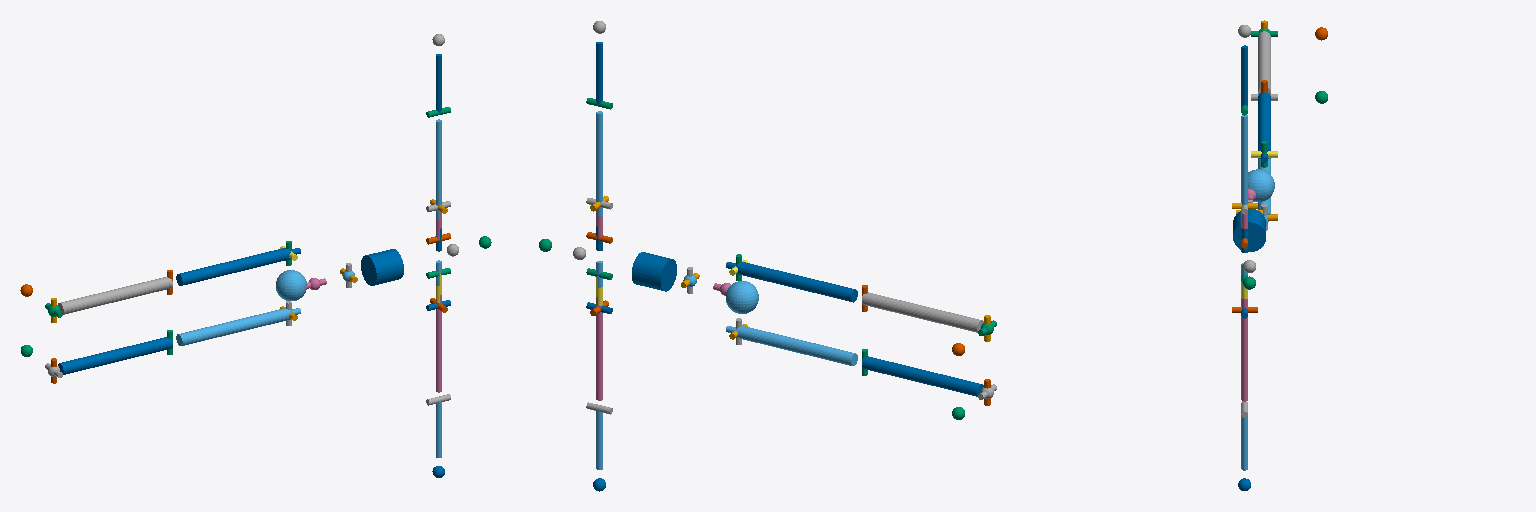
--- Facts derived from the render (not from the file) ---
3 views of the same robot in one strip: view 1: azimuth 30°, elevation 25°; view 2: azimuth 150°, elevation 25°; view 3: azimuth 270°, elevation 25° (orthographic).
Model bvh_human_3dof_tpose with 70 links and 69 joints (27 revolute, 41 fixed, 1 floating), rooted at world, posed every joint at zero.
Visible links, largest first — view 1: RightUpLeg, LeftUpLeg, RightLeg, LeftLeg, Spine2, Hips, LeftArm; view 2: LeftUpLeg, RightUpLeg, LeftLeg, RightLeg, Spine2, Hips, LeftArm, RightArm; view 3: Spine2, LeftUpLeg, LeftLeg, Hips, RightArm, LeftArm.
Link boxes in pixels (x1,y1,x2,y2): RightUpLeg: (176, 308, 300, 345); LeftUpLeg: (176, 248, 300, 285); RightLeg: (58, 337, 172, 374); LeftLeg: (58, 277, 172, 314); Spine2: (361, 249, 403, 285); Hips: (276, 270, 306, 300); LeftArm: (436, 119, 441, 218); LeftUpLeg: (726, 262, 857, 302); RightUpLeg: (726, 326, 857, 365); LeftLeg: (862, 292, 983, 332); RightLeg: (862, 356, 983, 396); Spine2: (632, 252, 676, 291); Hips: (726, 281, 758, 313); LeftArm: (596, 111, 602, 216); RightArm: (596, 297, 602, 400); Spine2: (1233, 209, 1265, 251); LeftUpLeg: (1258, 92, 1270, 162); LeftLeg: (1258, 31, 1270, 95); Hips: (1248, 169, 1274, 201); RightArm: (1241, 298, 1247, 401); LeftArm: (1241, 115, 1247, 204).
Bounding box of the posed robot: 1.59 × 0.2924 × 1.55 m (x, y, z).
Geometry: primitives only (box / cylinder / sphere), no mesh files.

The robot description file, URDF, robot "bvh_human_3dof_tpose":
<?xml version='1.0' encoding='utf-8'?>
<robot name="bvh_human_3dof_tpose">

  <mujoco>
    <compiler meshdir="meshes" fusestatic="false" discardvisual="false" strippath="false" balanceinertia="true" />
  </mujoco>

  
  <link name="world" />
  <joint name="floating_base_joint" type="floating">
    <parent link="world" />
    <child link="Hips" />
  </joint>

  <link name="Hips">
    <inertial>
      <origin xyz="0 0 0" rpy="0 0 0" />
      <mass value="1.0" />
      <inertia ixx="0.01" ixy="0.0" ixz="0.0" iyy="0.01" iyz="0.0" izz="0.01" />
    </inertial>
    <visual>
      <geometry>
        <sphere radius="0.05" />
      </geometry>
    </visual>
  </link>

  
  <link name="LeftUpLeg_rz">
    <inertial>
      <origin xyz="0 0 0" rpy="0 0 0" />
      <mass value="1.0" />
      <inertia ixx="0.01" ixy="0.0" ixz="0.0" iyy="0.01" iyz="0.0" izz="0.01" />
    </inertial>
  <visual><origin xyz="0 0 0" rpy="0 0 0" /><geometry><cylinder radius="0.0100" length="0.0800" /></geometry></visual></link>

  <link name="LeftUpLeg_ry">
    <inertial>
      <origin xyz="0 0 0" rpy="0 0 0" />
      <mass value="1.0" />
      <inertia ixx="0.01" ixy="0.0" ixz="0.0" iyy="0.01" iyz="0.0" izz="0.01" />
    </inertial>
  <visual><origin xyz="0 0 0" rpy="-1.5707963 0 0" /><geometry><cylinder radius="0.0100" length="0.0800" /></geometry></visual></link>

  <link name="LeftUpLeg">
    <inertial>
      <origin xyz="0 0 0" rpy="0 0 0" />
      <mass value="1.0" />
      <inertia ixx="0.01" ixy="0.0" ixz="0.0" iyy="0.01" iyz="0.0" izz="0.01" />
    </inertial>
    <visual>
      <origin xyz="0.2 -0.0 -0.0" rpy="0 1.57 0" />
      <geometry>
        <cylinder radius="0.02" length="0.4" />
      </geometry>
    </visual>
  <visual><origin xyz="0 0 0" rpy="0 1.5707963 0" /><geometry><cylinder radius="0.0100" length="0.0800" /></geometry></visual></link>

  
  <joint name="Hips_to_LeftUpLeg_rz" type="revolute">
    <parent link="Hips" />
    <child link="LeftUpLeg_rz" />
    <origin xyz="0.00103457 0.01857820 0.10548506" rpy="0 0 -3.1415927" />
    <axis xyz="0 0 1" />
    <limit lower="-3.14159" upper="3.14159" effort="100" velocity="10" />
  </joint>

  <joint name="LeftUpLeg_rz_to_LeftUpLeg_ry" type="revolute">
    <parent link="LeftUpLeg_rz" />
    <child link="LeftUpLeg_ry" />
    <origin xyz="0 0 0" rpy="0 0 0" />
    <axis xyz="0 1 0" />
    <limit lower="-3.14159" upper="3.14159" effort="100" velocity="10" />
  </joint>

  <joint name="LeftUpLeg_ry_to_LeftUpLeg" type="revolute">
    <parent link="LeftUpLeg_ry" />
    <child link="LeftUpLeg" />
    <origin xyz="0 0 0" rpy="3.1415927 0 0" />
    <axis xyz="1 0 0" />
    <limit lower="-3.14159" upper="3.14159" effort="100" velocity="10" />
  </joint>

  <link name="LeftLeg_rz">
    <inertial>
      <origin xyz="0 0 0" rpy="0 0 0" />
      <mass value="1.0" />
      <inertia ixx="0.01" ixy="0.0" ixz="0.0" iyy="0.01" iyz="0.0" izz="0.01" />
    </inertial>
  <visual><origin xyz="0 0 0" rpy="0 0 0" /><geometry><cylinder radius="0.0100" length="0.0800" /></geometry></visual></link>

  <link name="LeftLeg_ry">
    <inertial>
      <origin xyz="0 0 0" rpy="0 0 0" />
      <mass value="1.0" />
      <inertia ixx="0.01" ixy="0.0" ixz="0.0" iyy="0.01" iyz="0.0" izz="0.01" />
    </inertial>
  </link>

  <link name="LeftLeg">
    <inertial>
      <origin xyz="0 0 0" rpy="0 0 0" />
      <mass value="1.0" />
      <inertia ixx="0.01" ixy="0.0" ixz="0.0" iyy="0.01" iyz="0.0" izz="0.01" />
    </inertial>
    <visual>
      <origin xyz="0.2 -0.0 -0.0" rpy="0 1.57 0" />
      <geometry>
        <cylinder radius="0.02" length="0.4" />
      </geometry>
    </visual>
  </link>

  
  <joint name="LeftUpLeg_to_LeftLeg_rz" type="revolute">
    <parent link="LeftUpLeg" />
    <child link="LeftLeg_rz" />
    <origin xyz="0.43500000 -0.00000019 0.00000002" rpy="0 0 0" />
    <axis xyz="0 0 1" />
    <limit lower="-3.14159" upper="3.14159" effort="100" velocity="10" />
  </joint>

  <joint name="LeftLeg_rz_to_LeftLeg_ry" type="fixed">
    <parent link="LeftLeg_rz" />
    <child link="LeftLeg_ry" />
    <origin xyz="0 0 0" rpy="0 0 0" />
    <axis xyz="0 1 0" />
    <limit lower="-3.14159" upper="3.14159" effort="100" velocity="10" />
  </joint>

  <joint name="LeftLeg_ry_to_LeftLeg" type="fixed">
    <parent link="LeftLeg_ry" />
    <child link="LeftLeg" />
    <origin xyz="0 0 0" rpy="0 0 0" />
    <axis xyz="1 0 0" />
    <limit lower="-3.14159" upper="3.14159" effort="100" velocity="10" />
  </joint>

  <link name="LeftFoot_rz">
    <inertial>
      <origin xyz="0 0 0" rpy="0 0 0" />
      <mass value="1.0" />
      <inertia ixx="0.01" ixy="0.0" ixz="0.0" iyy="0.01" iyz="0.0" izz="0.01" />
    </inertial>
  <visual><origin xyz="0 0 0" rpy="0 0 0" /><geometry><cylinder radius="0.0100" length="0.0800" /></geometry></visual></link>

  <link name="LeftFoot_ry">
    <inertial>
      <origin xyz="0 0 0" rpy="0 0 0" />
      <mass value="1.0" />
      <inertia ixx="0.01" ixy="0.0" ixz="0.0" iyy="0.01" iyz="0.0" izz="0.01" />
    </inertial>
  </link>

  <link name="LeftFoot">
    <inertial>
      <origin xyz="0 0 0" rpy="0 0 0" />
      <mass value="1.0" />
      <inertia ixx="0.01" ixy="0.0" ixz="0.0" iyy="0.01" iyz="0.0" izz="0.01" />
    </inertial>
    <visual>
      <geometry>
        <sphere radius="0.02" />
      </geometry>
    </visual>
  <visual><origin xyz="0 0 0" rpy="0 1.5707963 0" /><geometry><cylinder radius="0.0100" length="0.0800" /></geometry></visual></link>

  
  <joint name="LeftLeg_to_LeftFoot_rz" type="revolute">
    <parent link="LeftLeg" />
    <child link="LeftFoot_rz" />
    <origin xyz="0.42372200 -0.00000004 0.00000003" rpy="0 0 1.5707963" />
    <axis xyz="0 0 1" />
    <limit lower="-3.14159" upper="3.14159" effort="100" velocity="10" />
  </joint>

  <joint name="LeftFoot_rz_to_LeftFoot_ry" type="fixed">
    <parent link="LeftFoot_rz" />
    <child link="LeftFoot_ry" />
    <origin xyz="0 0 0" rpy="0 0 0" />
    <axis xyz="0 1 0" />
    <limit lower="-3.14159" upper="3.14159" effort="100" velocity="10" />
  </joint>

  <joint name="LeftFoot_ry_to_LeftFoot" type="revolute">
    <parent link="LeftFoot_ry" />
    <child link="LeftFoot" />
    <origin xyz="0 0 0" rpy="0 0 0" />
    <axis xyz="1 0 0" />
    <limit lower="-3.14159" upper="3.14159" effort="100" velocity="10" />
  </joint>

  <link name="LeftToe_rz">
    <inertial>
      <origin xyz="0 0 0" rpy="0 0 0" />
      <mass value="1.0" />
      <inertia ixx="0.01" ixy="0.0" ixz="0.0" iyy="0.01" iyz="0.0" izz="0.01" />
    </inertial>
  </link>

  <link name="LeftToe_ry">
    <inertial>
      <origin xyz="0 0 0" rpy="0 0 0" />
      <mass value="1.0" />
      <inertia ixx="0.01" ixy="0.0" ixz="0.0" iyy="0.01" iyz="0.0" izz="0.01" />
    </inertial>
  </link>

  <link name="LeftToe">
    <inertial>
      <origin xyz="0 0 0" rpy="0 0 0" />
      <mass value="1.0" />
      <inertia ixx="0.01" ixy="0.0" ixz="0.0" iyy="0.01" iyz="0.0" izz="0.01" />
    </inertial>
    <visual>
      <geometry>
        <sphere radius="0.02" />
      </geometry>
    </visual>
  </link>

  
  <joint name="LeftFoot_to_LeftToe_rz" type="fixed">
    <parent link="LeftFoot" />
    <child link="LeftToe_rz" />
    <origin xyz="0.17300009 0.00000002 0.00000006" rpy="0 0 0" />
    <axis xyz="0 0 1" />
    <limit lower="-3.14159" upper="3.14159" effort="100" velocity="10" />
  </joint>

  <joint name="LeftToe_rz_to_LeftToe_ry" type="fixed">
    <parent link="LeftToe_rz" />
    <child link="LeftToe_ry" />
    <origin xyz="0 0 0" rpy="0 0 0" />
    <axis xyz="0 1 0" />
    <limit lower="-3.14159" upper="3.14159" effort="100" velocity="10" />
  </joint>

  <joint name="LeftToe_ry_to_LeftToe" type="fixed">
    <parent link="LeftToe_ry" />
    <child link="LeftToe" />
    <origin xyz="0 0 0" rpy="0 0 0" />
    <axis xyz="1 0 0" />
    <limit lower="-3.14159" upper="3.14159" effort="100" velocity="10" />
  </joint>

  <link name="LeftToe_End">
    <inertial>
      <origin xyz="0 0 0" rpy="0 0 0" />
      <mass value="1.0" />
      <inertia ixx="0.01" ixy="0.0" ixz="0.0" iyy="0.01" iyz="0.0" izz="0.01" />
    </inertial>
    <visual>
      <geometry>
        <sphere radius="0.02" />
      </geometry>
    </visual>
  </link>

  <joint name="LeftToe_to_LeftToe_End" type="fixed">
    <parent link="LeftToe" />
    <child link="LeftToe_End" />
    <origin xyz="0 0 0" rpy="0 0 0" />
  </joint>

  
  <link name="RightUpLeg_rz">
    <inertial>
      <origin xyz="0 0 0" rpy="0 0 0" />
      <mass value="1.0" />
      <inertia ixx="0.01" ixy="0.0" ixz="0.0" iyy="0.01" iyz="0.0" izz="0.01" />
    </inertial>
  <visual><origin xyz="0 0 0" rpy="0 0 0" /><geometry><cylinder radius="0.0100" length="0.0800" /></geometry></visual></link>

  <link name="RightUpLeg_ry">
    <inertial>
      <origin xyz="0 0 0" rpy="0 0 0" />
      <mass value="1.0" />
      <inertia ixx="0.01" ixy="0.0" ixz="0.0" iyy="0.01" iyz="0.0" izz="0.01" />
    </inertial>
  <visual><origin xyz="0 0 0" rpy="-1.5707963 0 0" /><geometry><cylinder radius="0.0100" length="0.0800" /></geometry></visual></link>

  <link name="RightUpLeg">
    <inertial>
      <origin xyz="0 0 0" rpy="0 0 0" />
      <mass value="1.0" />
      <inertia ixx="0.01" ixy="0.0" ixz="0.0" iyy="0.01" iyz="0.0" izz="0.01" />
    </inertial>
    <visual>
      <origin xyz="0.2 -0.0 -0.0" rpy="0 1.57 0" />
      <geometry>
        <cylinder radius="0.02" length="0.4" />
      </geometry>
    </visual>
  <visual><origin xyz="0 0 0" rpy="0 1.5707963 0" /><geometry><cylinder radius="0.0100" length="0.0800" /></geometry></visual></link>

  
  <joint name="Hips_to_RightUpLeg_rz" type="revolute">
    <parent link="Hips" />
    <child link="RightUpLeg_rz" />
    <origin xyz="0.00103459 0.01857818 -0.10548504" rpy="0 0 -3.1415927" />
    <axis xyz="0 0 1" />
    <limit lower="-3.14159" upper="3.14159" effort="100" velocity="10" />
  </joint>

  <joint name="RightUpLeg_rz_to_RightUpLeg_ry" type="revolute">
    <parent link="RightUpLeg_rz" />
    <child link="RightUpLeg_ry" />
    <origin xyz="0 0 0" rpy="0 0 0" />
    <axis xyz="0 1 0" />
    <limit lower="-3.14159" upper="3.14159" effort="100" velocity="10" />
  </joint>

  <joint name="RightUpLeg_ry_to_RightUpLeg" type="revolute">
    <parent link="RightUpLeg_ry" />
    <child link="RightUpLeg" />
    
    <origin xyz="0 0 0" rpy="-3.1415927 0 0" />
    <axis xyz="1 0 0" />
    <limit lower="-3.14159" upper="3.14159" effort="100" velocity="10" />
  </joint>

  <link name="RightLeg_rz">
    <inertial>
      <origin xyz="0 0 0" rpy="0 0 0" />
      <mass value="1.0" />
      <inertia ixx="0.01" ixy="0.0" ixz="0.0" iyy="0.01" iyz="0.0" izz="0.01" />
    </inertial>
  <visual><origin xyz="0 0 0" rpy="0 0 0" /><geometry><cylinder radius="0.0100" length="0.0800" /></geometry></visual></link>

  <link name="RightLeg_ry">
    <inertial>
      <origin xyz="0 0 0" rpy="0 0 0" />
      <mass value="1.0" />
      <inertia ixx="0.01" ixy="0.0" ixz="0.0" iyy="0.01" iyz="0.0" izz="0.01" />
    </inertial>
  </link>

  <link name="RightLeg">
    <inertial>
      <origin xyz="0 0 0" rpy="0 0 0" />
      <mass value="1.0" />
      <inertia ixx="0.01" ixy="0.0" ixz="0.0" iyy="0.01" iyz="0.0" izz="0.01" />
    </inertial>
    <visual>
      <origin xyz="0.2 -0.0 -0.0" rpy="0 1.57 0" />
      <geometry>
        <cylinder radius="0.02" length="0.4" />
      </geometry>
    </visual>
  </link>

  
  <joint name="RightUpLeg_to_RightLeg_rz" type="revolute">
    <parent link="RightUpLeg" />
    <child link="RightLeg_rz" />
    <origin xyz="0.43500042 -0.00000015 0.00000010" rpy="0 0 0" />
    <axis xyz="0 0 1" />
    <limit lower="-3.14159" upper="3.14159" effort="100" velocity="10" />
  </joint>

  <joint name="RightLeg_rz_to_RightLeg_ry" type="fixed">
    <parent link="RightLeg_rz" />
    <child link="RightLeg_ry" />
    <origin xyz="0 0 0" rpy="0 0 0" />
    <axis xyz="0 1 0" />
    <limit lower="-3.14159" upper="3.14159" effort="100" velocity="10" />
  </joint>

  <joint name="RightLeg_ry_to_RightLeg" type="fixed">
    <parent link="RightLeg_ry" />
    <child link="RightLeg" />
    <origin xyz="0 0 0" rpy="0 0 0" />
    <axis xyz="1 0 0" />
    <limit lower="-3.14159" upper="3.14159" effort="100" velocity="10" />
  </joint>

  <link name="RightFoot_rz">
    <inertial>
      <origin xyz="0 0 0" rpy="0 0 0" />
      <mass value="1.0" />
      <inertia ixx="0.01" ixy="0.0" ixz="0.0" iyy="0.01" iyz="0.0" izz="0.01" />
    </inertial>
  <visual><origin xyz="0 0 0" rpy="0 0 0" /><geometry><cylinder radius="0.0100" length="0.0800" /></geometry></visual></link>

  <link name="RightFoot_ry">
    <inertial>
      <origin xyz="0 0 0" rpy="0 0 0" />
      <mass value="1.0" />
      <inertia ixx="0.01" ixy="0.0" ixz="0.0" iyy="0.01" iyz="0.0" izz="0.01" />
    </inertial>
  </link>

  <link name="RightFoot">
    <inertial>
      <origin xyz="0 0 0" rpy="0 0 0" />
      <mass value="1.0" />
      <inertia ixx="0.01" ixy="0.0" ixz="0.0" iyy="0.01" iyz="0.0" izz="0.01" />
    </inertial>
    <visual>
      <geometry>
        <sphere radius="0.02" />
      </geometry>
    </visual>
  <visual><origin xyz="0 0 0" rpy="0 1.5707963 0" /><geometry><cylinder radius="0.0100" length="0.0800" /></geometry></visual></link>

  
  <joint name="RightLeg_to_RightFoot_rz" type="revolute">
    <parent link="RightLeg" />
    <child link="RightFoot_rz" />
    <origin xyz="0.42372261 -0.00000008 0.00000010" rpy="0 0 1.5707963" />
    <axis xyz="0 0 1" />
    <limit lower="-3.14159" upper="3.14159" effort="100" velocity="10" />
  </joint>

  <joint name="RightFoot_rz_to_RightFoot_ry" type="fixed">
    <parent link="RightFoot_rz" />
    <child link="RightFoot_ry" />
    <origin xyz="0 0 0" rpy="0 0 0" />
    <axis xyz="0 1 0" />
    <limit lower="-3.14159" upper="3.14159" effort="100" velocity="10" />
  </joint>

  <joint name="RightFoot_ry_to_RightFoot" type="revolute">
    <parent link="RightFoot_ry" />
    <child link="RightFoot" />
    <origin xyz="0 0 0" rpy="0 0 0" />
    <axis xyz="1 0 0" />
    <limit lower="-3.14159" upper="3.14159" effort="100" velocity="10" />
  </joint>

  <link name="RightToe_rz">
    <inertial>
      <origin xyz="0 0 0" rpy="0 0 0" />
      <mass value="1.0" />
      <inertia ixx="0.01" ixy="0.0" ixz="0.0" iyy="0.01" iyz="0.0" izz="0.01" />
    </inertial>
  </link>

  <link name="RightToe_ry">
    <inertial>
      <origin xyz="0 0 0" rpy="0 0 0" />
      <mass value="1.0" />
      <inertia ixx="0.01" ixy="0.0" ixz="0.0" iyy="0.01" iyz="0.0" izz="0.01" />
    </inertial>
  </link>

  <link name="RightToe">
    <inertial>
      <origin xyz="0 0 0" rpy="0 0 0" />
      <mass value="1.0" />
      <inertia ixx="0.01" ixy="0.0" ixz="0.0" iyy="0.01" iyz="0.0" izz="0.01" />
    </inertial>
    <visual>
      <geometry>
        <sphere radius="0.02" />
      </geometry>
    </visual>
  </link>

  
  <joint name="RightFoot_to_RightToe_rz" type="fixed">
    <parent link="RightFoot" />
    <child link="RightToe_rz" />
    <origin xyz="0.17299995 -0.00000005 0.00000000" rpy="0 0 0" />
    <axis xyz="0 0 1" />
    <limit lower="-3.14159" upper="3.14159" effort="100" velocity="10" />
  </joint>

  <joint name="RightToe_rz_to_RightToe_ry" type="fixed">
    <parent link="RightToe_rz" />
    <child link="RightToe_ry" />
    <origin xyz="0 0 0" rpy="0 0 0" />
    <axis xyz="0 1 0" />
    <limit lower="-3.14159" upper="3.14159" effort="100" velocity="10" />
  </joint>

  <joint name="RightToe_ry_to_RightToe" type="fixed">
    <parent link="RightToe_ry" />
    <child link="RightToe" />
    <origin xyz="0 0 0" rpy="0 0 0" />
    <axis xyz="1 0 0" />
    <limit lower="-3.14159" upper="3.14159" effort="100" velocity="10" />
  </joint>

  <link name="RightToe_End">
    <inertial>
      <origin xyz="0 0 0" rpy="0 0 0" />
      <mass value="1.0" />
      <inertia ixx="0.01" ixy="0.0" ixz="0.0" iyy="0.01" iyz="0.0" izz="0.01" />
    </inertial>
    <visual>
      <geometry>
        <sphere radius="0.02" />
      </geometry>
    </visual>
  </link>

  <joint name="RightToe_to_RightToe_End" type="fixed">
    <parent link="RightToe" />
    <child link="RightToe_End" />
    <origin xyz="0 0 0" rpy="0 0 0" />
  </joint>

  
  <link name="Spine_rz">
    <inertial>
      <origin xyz="0 0 0" rpy="0 0 0" />
      <mass value="1.0" />
      <inertia ixx="0.01" ixy="0.0" ixz="0.0" iyy="0.01" iyz="0.0" izz="0.01" />
    </inertial>
  </link>

  <link name="Spine_ry">
    <inertial>
      <origin xyz="0 0 0" rpy="0 0 0" />
      <mass value="1.0" />
      <inertia ixx="0.01" ixy="0.0" ixz="0.0" iyy="0.01" iyz="0.0" izz="0.01" />
    </inertial>
  </link>

  <link name="Spine">
    <inertial>
      <origin xyz="0 0 0" rpy="0 0 0" />
      <mass value="1.0" />
      <inertia ixx="0.01" ixy="0.0" ixz="0.0" iyy="0.01" iyz="0.0" izz="0.01" />
    </inertial>
    <visual>
      <geometry>
        <sphere radius="0.02" />
      </geometry>
    </visual>
  <visual><origin xyz="0 0 0" rpy="0 1.5707963 0" /><geometry><cylinder radius="0.0100" length="0.0800" /></geometry></visual></link>

  
  <joint name="Hips_to_Spine_rz" type="fixed">
    <parent link="Hips" />
    <child link="Spine_rz" />
    <origin xyz="0.06901967 -0.02603743 0.00000001" rpy="0 0 0" />
    <axis xyz="0 0 1" />
    <limit lower="-3.14159" upper="3.14159" effort="100" velocity="10" />
  </joint>

  <joint name="Spine_rz_to_Spine_ry" type="fixed">
    <parent link="Spine_rz" />
    <child link="Spine_ry" />
    <origin xyz="0 0 0" rpy="0 0 0" />
    <axis xyz="0 1 0" />
    <limit lower="-3.14159" upper="3.14159" effort="100" velocity="10" />
  </joint>

  <joint name="Spine_ry_to_Spine" type="revolute">
    <parent link="Spine_ry" />
    <child link="Spine" />
    <origin xyz="0 0 0" rpy="0 0 0" />
    <axis xyz="1 0 0" />
    <limit lower="-3.14159" upper="3.14159" effort="100" velocity="10" />
  </joint>

  <link name="Spine1_rz">
    <inertial>
      <origin xyz="0 0 0" rpy="0 0 0" />
      <mass value="1.0" />
      <inertia ixx="0.01" ixy="0.0" ixz="0.0" iyy="0.01" iyz="0.0" izz="0.01" />
    </inertial>
  <visual><origin xyz="0 0 0" rpy="0 0 0" /><geometry><cylinder radius="0.0100" length="0.0800" /></geometry></visual></link>

  <link name="Spine1_ry">
    <inertial>
      <origin xyz="0 0 0" rpy="0 0 0" />
      <mass value="1.0" />
      <inertia ixx="0.01" ixy="0.0" ixz="0.0" iyy="0.01" iyz="0.0" izz="0.01" />
    </inertial>
  <visual><origin xyz="0 0 0" rpy="-1.5707963 0 0" /><geometry><cylinder radius="0.0100" length="0.0800" /></geometry></visual></link>

  <link name="Spine1">
    <inertial>
      <origin xyz="0 0 0" rpy="0 0 0" />
      <mass value="1.0" />
      <inertia ixx="0.01" ixy="0.0" ixz="0.0" iyy="0.01" iyz="0.0" izz="0.01" />
    </inertial>
    <visual>
      <geometry>
        <sphere radius="0.02" />
      </geometry>
    </visual>
  </link>

  
  <joint name="Spine_to_Spine1_rz" type="revolute">
    <parent link="Spine" />
    <child link="Spine1_rz" />
    <origin xyz="0.12588100 0.00000016 -0.00000005" rpy="0 0 0" />
    <axis xyz="0 0 1" />
    <limit lower="-3.14159" upper="3.14159" effort="100" velocity="10" />
  </joint>

  <joint name="Spine1_rz_to_Spine1_ry" type="revolute">
    <parent link="Spine1_rz" />
    <child link="Spine1_ry" />
    <origin xyz="0 0 0" rpy="0 0 0" />
    <axis xyz="0 1 0" />
    <limit lower="-3.14159" upper="3.14159" effort="100" velocity="10" />
  </joint>

  <joint name="Spine1_ry_to_Spine1" type="fixed">
    <parent link="Spine1_ry" />
    <child link="Spine1" />
    <origin xyz="0 0 0" rpy="0 0 0" />
    <axis xyz="1 0 0" />
    <limit lower="-3.14159" upper="3.14159" effort="100" velocity="10" />
  </joint>

  <link name="Spine2_rz">
    <inertial>
      <origin xyz="0 0 0" rpy="0 0 0" />
      <mass value="1.0" />
      <inertia ixx="0.01" ixy="0.0" ixz="0.0" iyy="0.01" iyz="0.0" izz="0.01" />
    </inertial>
  </link>

  <link name="Spine2_ry">
    <inertial>
      <origin xyz="0 0 0" rpy="0 0 0" />
      <mass value="1.0" />
      <inertia ixx="0.01" ixy="0.0" ixz="0.0" iyy="0.01" iyz="0.0" izz="0.01" />
    </inertial>
  </link>

  <link name="Spine2">
    <inertial>
      <origin xyz="0 0 0" rpy="0 0 0" />
      <mass value="1.0" />
      <inertia ixx="0.01" ixy="0.0" ixz="0.0" iyy="0.01" iyz="0.0" izz="0.01" />
    </inertial>
    <visual>
      <origin xyz="0.0 -0.0 -0.0" rpy="0 1.57 0" />
      <geometry>
        <cylinder radius="0.05" length="0.1" />
      </geometry>
    </visual>
  </link>

  
  <joint name="Spine1_to_Spine2_rz" type="fixed">
    <parent link="Spine1" />
    <child link="Spine2_rz" />
    <origin xyz="0.12343201 -0.00000011 -0.00000005" rpy="0 0 0" />
    <axis xyz="0 0 1" />
    <limit lower="-3.14159" upper="3.14159" effort="100" velocity="10" />
  </joint>

  <joint name="Spine2_rz_to_Spine2_ry" type="fixed">
    <parent link="Spine2_rz" />
    <child link="Spine2_ry" />
    <origin xyz="0 0 0" rpy="0 0 0" />
    <axis xyz="0 1 0" />
    <limit lower="-3.14159" upper="3.14159" effort="100" velocity="10" />
  </joint>

  <joint name="Spine2_ry_to_Spine2" type="fixed">
    <parent link="Spine2_ry" />
    <child link="Spine2" />
    <origin xyz="0 0 0" rpy="0 0 0" />
    <axis xyz="1 0 0" />
    <limit lower="-3.14159" upper="3.14159" effort="100" velocity="10" />
  </joint>

  <link name="Neck_rz">
    <inertial>
      <origin xyz="0 0 0" rpy="0 0 0" />
      <mass value="1.0" />
      <inertia ixx="0.01" ixy="0.0" ixz="0.0" iyy="0.01" iyz="0.0" izz="0.01" />
    </inertial>
  </link>

  <link name="Neck_ry">
    <inertial>
      <origin xyz="0 0 0" rpy="0 0 0" />
      <mass value="1.0" />
      <inertia ixx="0.01" ixy="0.0" ixz="0.0" iyy="0.01" iyz="0.0" izz="0.01" />
    </inertial>
  </link>

  <link name="Neck">
    <inertial>
      <origin xyz="0 0 0" rpy="0 0 0" />
      <mass value="1.0" />
      <inertia ixx="0.01" ixy="0.0" ixz="0.0" iyy="0.01" iyz="0.0" izz="0.01" />
    </inertial>
    <visual>
      <geometry>
        <sphere radius="0.02" />
      </geometry>
    </visual>
  </link>

  
  <joint name="Spine2_to_Neck_rz" type="fixed">
    <parent link="Spine2" />
    <child link="Neck_rz" />
    <origin xyz="0.25832895 0.00000008 0.00000006" rpy="0 0 0" />
    <axis xyz="0 0 1" />
    <limit lower="-3.14159" upper="3.14159" effort="100" velocity="10" />
  </joint>

  <joint name="Neck_rz_to_Neck_ry" type="fixed">
    <parent link="Neck_rz" />
    <child link="Neck_ry" />
    <origin xyz="0 0 0" rpy="0 0 0" />
    <axis xyz="0 1 0" />
    <limit lower="-3.14159" upper="3.14159" effort="100" velocity="10" />
  </joint>

  <joint name="Neck_ry_to_Neck" type="fixed">
    <parent link="Neck_ry" />
    <child link="Neck" />
    <origin xyz="0 0 0" rpy="0 0 0" />
    <axis xyz="1 0 0" />
    <limit lower="-3.14159" upper="3.14159" effort="100" velocity="10" />
  </joint>

  <link name="Head_rz">
    <inertial>
      <origin xyz="0 0 0" rpy="0 0 0" />
      <mass value="1.0" />
      <inertia ixx="0.01" ixy="0.0" ixz="0.0" iyy="0.01" iyz="0.0" izz="0.01" />
    </inertial>
  </link>

  <link name="Head_ry">
    <inertial>
      <origin xyz="0 0 0" rpy="0 0 0" />
      <mass value="1.0" />
      <inertia ixx="0.01" ixy="0.0" ixz="0.0" iyy="0.01" iyz="0.0" izz="0.01" />
    </inertial>
  </link>

  <link name="Head">
    <inertial>
      <origin xyz="0 0 0" rpy="0 0 0" />
      <mass value="1.0" />
      <inertia ixx="0.01" ixy="0.0" ixz="0.0" iyy="0.01" iyz="0.0" izz="0.01" />
    </inertial>
    <visual>
      <geometry>
        <sphere radius="0.02" />
      </geometry>
    </visual>
  </link>

  
  <joint name="Neck_to_Head_rz" type="fixed">
    <parent link="Neck" />
    <child link="Head_rz" />
    <origin xyz="0.11766613 -0.00000004 -0.00000002" rpy="0 0 0" />
    <axis xyz="0 0 1" />
    <limit lower="-3.14159" upper="3.14159" effort="100" velocity="10" />
  </joint>

  <joint name="Head_rz_to_Head_ry" type="fixed">
    <parent link="Head_rz" />
    <child link="Head_ry" />
    <origin xyz="0 0 0" rpy="0 0 0" />
    <axis xyz="0 1 0" />
    <limit lower="-3.14159" upper="3.14159" effort="100" velocity="10" />
  </joint>

  <joint name="Head_ry_to_Head" type="fixed">
    <parent link="Head_ry" />
    <child link="Head" />
    <origin xyz="0 0 0" rpy="0 0 0" />
    <axis xyz="1 0 0" />
    <limit lower="-3.14159" upper="3.14159" effort="100" velocity="10" />
  </joint>

  <link name="Head_End">
    <inertial>
      <origin xyz="0 0 0" rpy="0 0 0" />
      <mass value="1.0" />
      <inertia ixx="0.01" ixy="0.0" ixz="0.0" iyy="0.01" iyz="0.0" izz="0.01" />
    </inertial>
    <visual>
      <geometry>
        <sphere radius="0.02" />
      </geometry>
    </visual>
  </link>

  <joint name="Head_to_Head_End" type="fixed">
    <parent link="Head" />
    <child link="Head_End" />
    <origin xyz="0 0 0" rpy="0 0 0" />
  </joint>

  
  <link name="LeftShoulder_rz">
    <inertial>
      <origin xyz="0 0 0" rpy="0 0 0" />
      <mass value="1.0" />
      <inertia ixx="0.01" ixy="0.0" ixz="0.0" iyy="0.01" iyz="0.0" izz="0.01" />
    </inertial>
  <visual><origin xyz="0 0 0" rpy="0 0 0" /><geometry><cylinder radius="0.0100" length="0.0800" /></geometry></visual></link>

  <link name="LeftShoulder_ry">
    <inertial>
      <origin xyz="0 0 0" rpy="0 0 0" />
      <mass value="1.0" />
      <inertia ixx="0.01" ixy="0.0" ixz="0.0" iyy="0.01" iyz="0.0" izz="0.01" />
    </inertial>
  <visual><origin xyz="0 0 0" rpy="-1.5707963 0 0" /><geometry><cylinder radius="0.0100" length="0.0800" /></geometry></visual></link>

  <link name="LeftShoulder">
    <inertial>
      <origin xyz="0 0 0" rpy="0 0 0" />
      <mass value="1.0" />
      <inertia ixx="0.01" ixy="0.0" ixz="0.0" iyy="0.01" iyz="0.0" izz="0.01" />
    </inertial>
    <visual>
      <origin xyz="0.05 -0.0 -0.0" rpy="0 1.57 0" />
      <geometry>
        <cylinder radius="0.01" length="0.1" />
      </geometry>
    </visual>
  </link>

  
  <joint name="Spine2_to_LeftShoulder_rz" type="revolute">
    <parent link="Spine2" />
    <child link="LeftShoulder_rz" />
    <origin xyz="0.19745897 -0.01480371 0.06000116" rpy="0 0 -1.5707963" />
    <axis xyz="0 0 1" />
    <limit lower="-3.14159" upper="3.14159" effort="100" velocity="10" />
  </joint>

  <joint name="LeftShoulder_rz_to_LeftShoulder_ry" type="revolute">
    <parent link="LeftShoulder_rz" />
    <child link="LeftShoulder_ry" />
    <origin xyz="0 0 0" rpy="0 -1.5707963 0" />
    <axis xyz="0 1 0" />
    <limit lower="-3.14159" upper="3.14159" effort="100" velocity="10" />
  </joint>

  <joint name="LeftShoulder_ry_to_LeftShoulder" type="fixed">
    <parent link="LeftShoulder_ry" />
    <child link="LeftShoulder" />
    <origin xyz="0 0 0" rpy="-1.5707963 0 0" />
    <axis xyz="1 0 0" />
    <limit lower="-3.14159" upper="3.14159" effort="100" velocity="10" />
  </joint>

  <link name="LeftArm_rz">
    <inertial>
      <origin xyz="0 0 0" rpy="0 0 0" />
      <mass value="1.0" />
      <inertia ixx="0.01" ixy="0.0" ixz="0.0" iyy="0.01" iyz="0.0" izz="0.01" />
    </inertial>
  <visual><origin xyz="0 0 0" rpy="0 0 0" /><geometry><cylinder radius="0.0100" length="0.0800" /></geometry></visual></link>

  <link name="LeftArm_ry">
    <inertial>
      <origin xyz="0 0 0" rpy="0 0 0" />
      <mass value="1.0" />
      <inertia ixx="0.01" ixy="0.0" ixz="0.0" iyy="0.01" iyz="0.0" izz="0.01" />
    </inertial>
  <visual><origin xyz="0 0 0" rpy="-1.5707963 0 0" /><geometry><cylinder radius="0.0100" length="0.0800" /></geometry></visual></link>

  <link name="LeftArm">
    <inertial>
      <origin xyz="0 0 0" rpy="0 0 0" />
      <mass value="1.0" />
      <inertia ixx="0.01" ixy="0.0" ixz="0.0" iyy="0.01" iyz="0.0" izz="0.01" />
    </inertial>
    <visual>
      <origin xyz="0.15 -0.0 -0.0" rpy="0 1.57 0" />
      <geometry>
        <cylinder radius="0.01" length="0.3" />
      </geometry>
    </visual>
  <visual><origin xyz="0 0 0" rpy="0 1.5707963 0" /><geometry><cylinder radius="0.0100" length="0.0800" /></geometry></visual></link>

  
  <joint name="LeftShoulder_to_LeftArm_rz" type="revolute">
    <parent link="LeftShoulder" />
    <child link="LeftArm_rz" />
    <origin xyz="0.11284124 -0.00000012 -0.00000008" rpy="0 0 0" />
    <axis xyz="0 0 1" />
    <limit lower="-3.14159" upper="3.14159" effort="100" velocity="10" />
  </joint>

  <joint name="LeftArm_rz_to_LeftArm_ry" type="revolute">
    <parent link="LeftArm_rz" />
    <child link="LeftArm_ry" />
    <origin xyz="0 0 0" rpy="0 0 0" />
    <axis xyz="0 1 0" />
    
    <limit lower="-3.14159" upper="3.14159" effort="100" velocity="10" />
  </joint>

  <joint name="LeftArm_ry_to_LeftArm" type="revolute">
    <parent link="LeftArm_ry" />
    <child link="LeftArm" />
    <origin xyz="0 0 0" rpy="0 0 0" />
    <axis xyz="1 0 0" />
    <limit lower="-3.14159" upper="3.14159" effort="100" velocity="10" />
  </joint>

  <link name="LeftForeArm_rz">
    <inertial>
      <origin xyz="0 0 0" rpy="0 0 0" />
      <mass value="1.0" />
      <inertia ixx="0.01" ixy="0.0" ixz="0.0" iyy="0.01" iyz="0.0" izz="0.01" />
    </inertial>
  <visual><origin xyz="0 0 0" rpy="0 0 0" /><geometry><cylinder radius="0.0100" length="0.0800" /></geometry></visual></link>

  <link name="LeftForeArm_ry">
    <inertial>
      <origin xyz="0 0 0" rpy="0 0 0" />
      <mass value="1.0" />
      <inertia ixx="0.01" ixy="0.0" ixz="0.0" iyy="0.01" iyz="0.0" izz="0.01" />
    </inertial>
  </link>

  <link name="LeftForeArm">
    <inertial>
      <origin xyz="0 0 0" rpy="0 0 0" />
      <mass value="1.0" />
      <inertia ixx="0.01" ixy="0.0" ixz="0.0" iyy="0.01" iyz="0.0" izz="0.01" />
    </inertial>
    <visual>
      <origin xyz="0.1 -0.0 -0.0" rpy="0 1.57 0" />
      <geometry>
        <cylinder radius="0.01" length="0.2" />
      </geometry>
    </visual>
  </link>

  
  <joint name="LeftArm_to_LeftForeArm_rz" type="revolute">
    <parent link="LeftArm" />
    <child link="LeftForeArm_rz" />
    <origin xyz="0.33000046 0.00000002 0.00000022" rpy="0 0 0" />
    <axis xyz="0 0 1" />
    <limit lower="-3.14159" upper="3.14159" effort="100" velocity="10" />
  </joint>

  <joint name="LeftForeArm_rz_to_LeftForeArm_ry" type="fixed">
    <parent link="LeftForeArm_rz" />
    <child link="LeftForeArm_ry" />
    <origin xyz="0 0 0" rpy="0 0 0" />
    <axis xyz="0 1 0" />
    <limit lower="-3.14159" upper="3.14159" effort="100" velocity="10" />
  </joint>

  <joint name="LeftForeArm_ry_to_LeftForeArm" type="fixed">
    <parent link="LeftForeArm_ry" />
    <child link="LeftForeArm" />
    <origin xyz="0 0 0" rpy="0 0 0" />
    <axis xyz="1 0 0" />
    <limit lower="-3.14159" upper="3.14159" effort="100" velocity="10" />
  </joint>

  <link name="LeftHand_rz">
    <inertial>
      <origin xyz="0 0 0" rpy="0 0 0" />
      <mass value="1.0" />
      <inertia ixx="0.01" ixy="0.0" ixz="0.0" iyy="0.01" iyz="0.0" izz="0.01" />
    </inertial>
  </link>

  <link name="LeftHand_ry">
    <inertial>
      <origin xyz="0 0 0" rpy="0 0 0" />
      <mass value="1.0" />
      <inertia ixx="0.01" ixy="0.0" ixz="0.0" iyy="0.01" iyz="0.0" izz="0.01" />
    </inertial>
  </link>

  <link name="LeftHand">
    <inertial>
      <origin xyz="0 0 0" rpy="0 0 0" />
      <mass value="1.0" />
      <inertia ixx="0.01" ixy="0.0" ixz="0.0" iyy="0.01" iyz="0.0" izz="0.01" />
    </inertial>
    <visual>
      <geometry>
        <sphere radius="0.02" />
      </geometry>
    </visual>
  </link>

  
  <joint name="LeftForeArm_to_LeftHand_rz" type="fixed">
    <parent link="LeftForeArm" />
    <child link="LeftHand_rz" />
    <origin xyz="0.25200014 0.00000006 0.00000015" rpy="0 0 0" />
    <axis xyz="0 0 1" />
    <limit lower="-3.14159" upper="3.14159" effort="100" velocity="10" />
  </joint>

  <joint name="LeftHand_rz_to_LeftHand_ry" type="fixed">
    <parent link="LeftHand_rz" />
    <child link="LeftHand_ry" />
    <origin xyz="0 0 0" rpy="0 0 0" />
    <axis xyz="0 1 0" />
    <limit lower="-3.14159" upper="3.14159" effort="100" velocity="10" />
  </joint>

  <joint name="LeftHand_ry_to_LeftHand" type="fixed">
    <parent link="LeftHand_ry" />
    <child link="LeftHand" />
    <origin xyz="0 0 0" rpy="0 0 0" />
    <axis xyz="1 0 0" />
    <limit lower="-3.14159" upper="3.14159" effort="100" velocity="10" />
  </joint>

  <link name="LeftHand_End">
    <inertial>
      <origin xyz="0 0 0" rpy="0 0 0" />
      <mass value="1.0" />
      <inertia ixx="0.01" ixy="0.0" ixz="0.0" iyy="0.01" iyz="0.0" izz="0.01" />
    </inertial>
    <visual>
      <geometry>
        <sphere radius="0.02" />
      </geometry>
    </visual>
  </link>

  <joint name="LeftHand_to_LeftHand_End" type="fixed">
    <parent link="LeftHand" />
    <child link="LeftHand_End" />
    <origin xyz="0 0 0" rpy="0 0 0" />
  </joint>

  
  <link name="RightShoulder_rz">
    <inertial>
      <origin xyz="0 0 0" rpy="0 0 0" />
      <mass value="1.0" />
      <inertia ixx="0.01" ixy="0.0" ixz="0.0" iyy="0.01" iyz="0.0" izz="0.01" />
    </inertial>
  <visual><origin xyz="0 0 0" rpy="0 0 0" /><geometry><cylinder radius="0.0100" length="0.0800" /></geometry></visual></link>

  <link name="RightShoulder_ry">
    <inertial>
      <origin xyz="0 0 0" rpy="0 0 0" />
      <mass value="1.0" />
      <inertia ixx="0.01" ixy="0.0" ixz="0.0" iyy="0.01" iyz="0.0" izz="0.01" />
    </inertial>
  <visual><origin xyz="0 0 0" rpy="-1.5707963 0 0" /><geometry><cylinder radius="0.0100" length="0.0800" /></geometry></visual></link>

  <link name="RightShoulder">
    <inertial>
      <origin xyz="0 0 0" rpy="0 0 0" />
      <mass value="1.0" />
      <inertia ixx="0.01" ixy="0.0" ixz="0.0" iyy="0.01" iyz="0.0" izz="0.01" />
    </inertial>
    <visual>
      <origin xyz="0.05 -0.0 -0.0" rpy="0 1.57 0" />
      <geometry>
        <cylinder radius="0.01" length="0.1" />
      </geometry>
    </visual>
  </link>

  
  <joint name="Spine2_to_RightShoulder_rz" type="revolute">
    <parent link="Spine2" />
    <child link="RightShoulder_rz" />
    <origin xyz="0.19746101 -0.01480377 -0.06000068" rpy="0 0 1.5707963" />
    <axis xyz="0 0 1" />
    <limit lower="-3.14159" upper="3.14159" effort="100" velocity="10" />
  </joint>

  <joint name="RightShoulder_rz_to_RightShoulder_ry" type="revolute">
    <parent link="RightShoulder_rz" />
    <child link="RightShoulder_ry" />
    <origin xyz="0 0 0" rpy="0 1.5707963 0" />
    <axis xyz="0 1 0" />
    <limit lower="-3.14159" upper="3.14159" effort="100" velocity="10" />
  </joint>

  <joint name="RightShoulder_ry_to_RightShoulder" type="fixed">
    <parent link="RightShoulder_ry" />
    <child link="RightShoulder" />
    <origin xyz="0 0 0" rpy="-1.5707963 0 0" />
    <axis xyz="1 0 0" />
    <limit lower="-3.14159" upper="3.14159" effort="100" velocity="10" />
  </joint>

  <link name="RightArm_rz">
    <inertial>
      <origin xyz="0 0 0" rpy="0 0 0" />
      <mass value="1.0" />
      <inertia ixx="0.01" ixy="0.0" ixz="0.0" iyy="0.01" iyz="0.0" izz="0.01" />
    </inertial>
  <visual><origin xyz="0 0 0" rpy="0 0 0" /><geometry><cylinder radius="0.0100" length="0.0800" /></geometry></visual></link>

  <link name="RightArm_ry">
    <inertial>
      <origin xyz="0 0 0" rpy="0 0 0" />
      <mass value="1.0" />
      <inertia ixx="0.01" ixy="0.0" ixz="0.0" iyy="0.01" iyz="0.0" izz="0.01" />
    </inertial>
  <visual><origin xyz="0 0 0" rpy="-1.5707963 0 0" /><geometry><cylinder radius="0.0100" length="0.0800" /></geometry></visual></link>

  <link name="RightArm">
    <inertial>
      <origin xyz="0 0 0" rpy="0 0 0" />
      <mass value="1.0" />
      <inertia ixx="0.01" ixy="0.0" ixz="0.0" iyy="0.01" iyz="0.0" izz="0.01" />
    </inertial>
    <visual>
      <origin xyz="0.15 -0.0 -0.0" rpy="0 1.57 0" />
      <geometry>
        <cylinder radius="0.01" length="0.3" />
      </geometry>
    </visual>
  <visual><origin xyz="0 0 0" rpy="0 1.5707963 0" /><geometry><cylinder radius="0.0100" length="0.0800" /></geometry></visual></link>

  
  <joint name="RightShoulder_to_RightArm_rz" type="revolute">
    <parent link="RightShoulder" />
    <child link="RightArm_rz" />
    <origin xyz="0.11284134 -0.00000035 -0.00000008" rpy="0 0 0" />
    <axis xyz="0 0 1" />
    <limit lower="-3.14159" upper="3.14159" effort="100" velocity="10" />
  </joint>

  <joint name="RightArm_rz_to_RightArm_ry" type="revolute">
    <parent link="RightArm_rz" />
    <child link="RightArm_ry" />
    <origin xyz="0 0 0" rpy="0 0 0" />
    <axis xyz="0 1 0" />
    <limit lower="-3.14159" upper="3.14159" effort="100" velocity="10" />
  </joint>

  <joint name="RightArm_ry_to_RightArm" type="revolute">
    <parent link="RightArm_ry" />
    <child link="RightArm" />
    <origin xyz="0 0 0" rpy="0 0 0" />
    <axis xyz="1 0 0" />
    <limit lower="-3.14159" upper="3.14159" effort="100" velocity="10" />
  </joint>

  <link name="RightForeArm_rz">
    <inertial>
      <origin xyz="0 0 0" rpy="0 0 0" />
      <mass value="1.0" />
      <inertia ixx="0.01" ixy="0.0" ixz="0.0" iyy="0.01" iyz="0.0" izz="0.01" />
    </inertial>
  <visual><origin xyz="0 0 0" rpy="0 0 0" /><geometry><cylinder radius="0.0100" length="0.0800" /></geometry></visual></link>

  <link name="RightForeArm_ry">
    <inertial>
      <origin xyz="0 0 0" rpy="0 0 0" />
      <mass value="1.0" />
      <inertia ixx="0.01" ixy="0.0" ixz="0.0" iyy="0.01" iyz="0.0" izz="0.01" />
    </inertial>
  </link>

  <link name="RightForeArm">
    <inertial>
      <origin xyz="0 0 0" rpy="0 0 0" />
      <mass value="1.0" />
      <inertia ixx="0.01" ixy="0.0" ixz="0.0" iyy="0.01" iyz="0.0" izz="0.01" />
    </inertial>
    <visual>
      <origin xyz="0.1 -0.0 -0.0" rpy="0 1.57 0" />
      <geometry>
        <cylinder radius="0.01" length="0.2" />
      </geometry>
    </visual>
  </link>

  
  <joint name="RightArm_to_RightForeArm_rz" type="revolute">
    <parent link="RightArm" />
    <child link="RightForeArm_rz" />
    <origin xyz="0.33000092 0.00000019 0.00000006" rpy="0 0 0" />
    <axis xyz="0 0 1" />
    <limit lower="-3.14159" upper="3.14159" effort="100" velocity="10" />
  </joint>

  <joint name="RightForeArm_rz_to_RightForeArm_ry" type="fixed">
    <parent link="RightForeArm_rz" />
    <child link="RightForeArm_ry" />
    <origin xyz="0 0 0" rpy="0 0 0" />
    <axis xyz="0 1 0" />
    <limit lower="-3.14159" upper="3.14159" effort="100" velocity="10" />
  </joint>

  <joint name="RightForeArm_ry_to_RightForeArm" type="fixed">
    <parent link="RightForeArm_ry" />
    <child link="RightForeArm" />
    <origin xyz="0 0 0" rpy="0 0 0" />
    <axis xyz="1 0 0" />
    <limit lower="-3.14159" upper="3.14159" effort="100" velocity="10" />
  </joint>

  <link name="RightHand_rz">
    <inertial>
      <origin xyz="0 0 0" rpy="0 0 0" />
      <mass value="1.0" />
      <inertia ixx="0.01" ixy="0.0" ixz="0.0" iyy="0.01" iyz="0.0" izz="0.01" />
    </inertial>
  </link>

  <link name="RightHand_ry">
    <inertial>
      <origin xyz="0 0 0" rpy="0 0 0" />
      <mass value="1.0" />
      <inertia ixx="0.01" ixy="0.0" ixz="0.0" iyy="0.01" iyz="0.0" izz="0.01" />
    </inertial>
  </link>

  <link name="RightHand">
    <inertial>
      <origin xyz="0 0 0" rpy="0 0 0" />
      <mass value="1.0" />
      <inertia ixx="0.01" ixy="0.0" ixz="0.0" iyy="0.01" iyz="0.0" izz="0.01" />
    </inertial>
    <visual>
      <geometry>
        <sphere radius="0.02" />
      </geometry>
    </visual>
  </link>

  
  <joint name="RightForeArm_to_RightHand_rz" type="fixed">
    <parent link="RightForeArm" />
    <child link="RightHand_rz" />
    <origin xyz="0.25199776 0.00000139 0.00000431" rpy="0 0 0" />
    <axis xyz="0 0 1" />
    <limit lower="-3.14159" upper="3.14159" effort="100" velocity="10" />
  </joint>

  <joint name="RightHand_rz_to_RightHand_ry" type="fixed">
    <parent link="RightHand_rz" />
    <child link="RightHand_ry" />
    <origin xyz="0 0 0" rpy="0 0 0" />
    <axis xyz="0 1 0" />
    <limit lower="-3.14159" upper="3.14159" effort="100" velocity="10" />
  </joint>

  <joint name="RightHand_ry_to_RightHand" type="fixed">
    <parent link="RightHand_ry" />
    <child link="RightHand" />
    <origin xyz="0 0 0" rpy="0 0 0" />
    <axis xyz="1 0 0" />
    
    <limit lower="-3.14159" upper="3.14159" effort="100" velocity="10" />
  </joint>

  <link name="RightHand_End">
    <inertial>
      <origin xyz="0 0 0" rpy="0 0 0" />
      <mass value="1.0" />
      <inertia ixx="0.01" ixy="0.0" ixz="0.0" iyy="0.01" iyz="0.0" izz="0.01" />
    </inertial>
    <visual>
      <geometry>
        <sphere radius="0.02" />
      </geometry>
    </visual>
  </link>

  <joint name="RightHand_to_RightHand_End" type="fixed">
    <parent link="RightHand" />
    <child link="RightHand_End" />
    <origin xyz="0 0 0" rpy="0 0 0" />
  </joint>


</robot>
